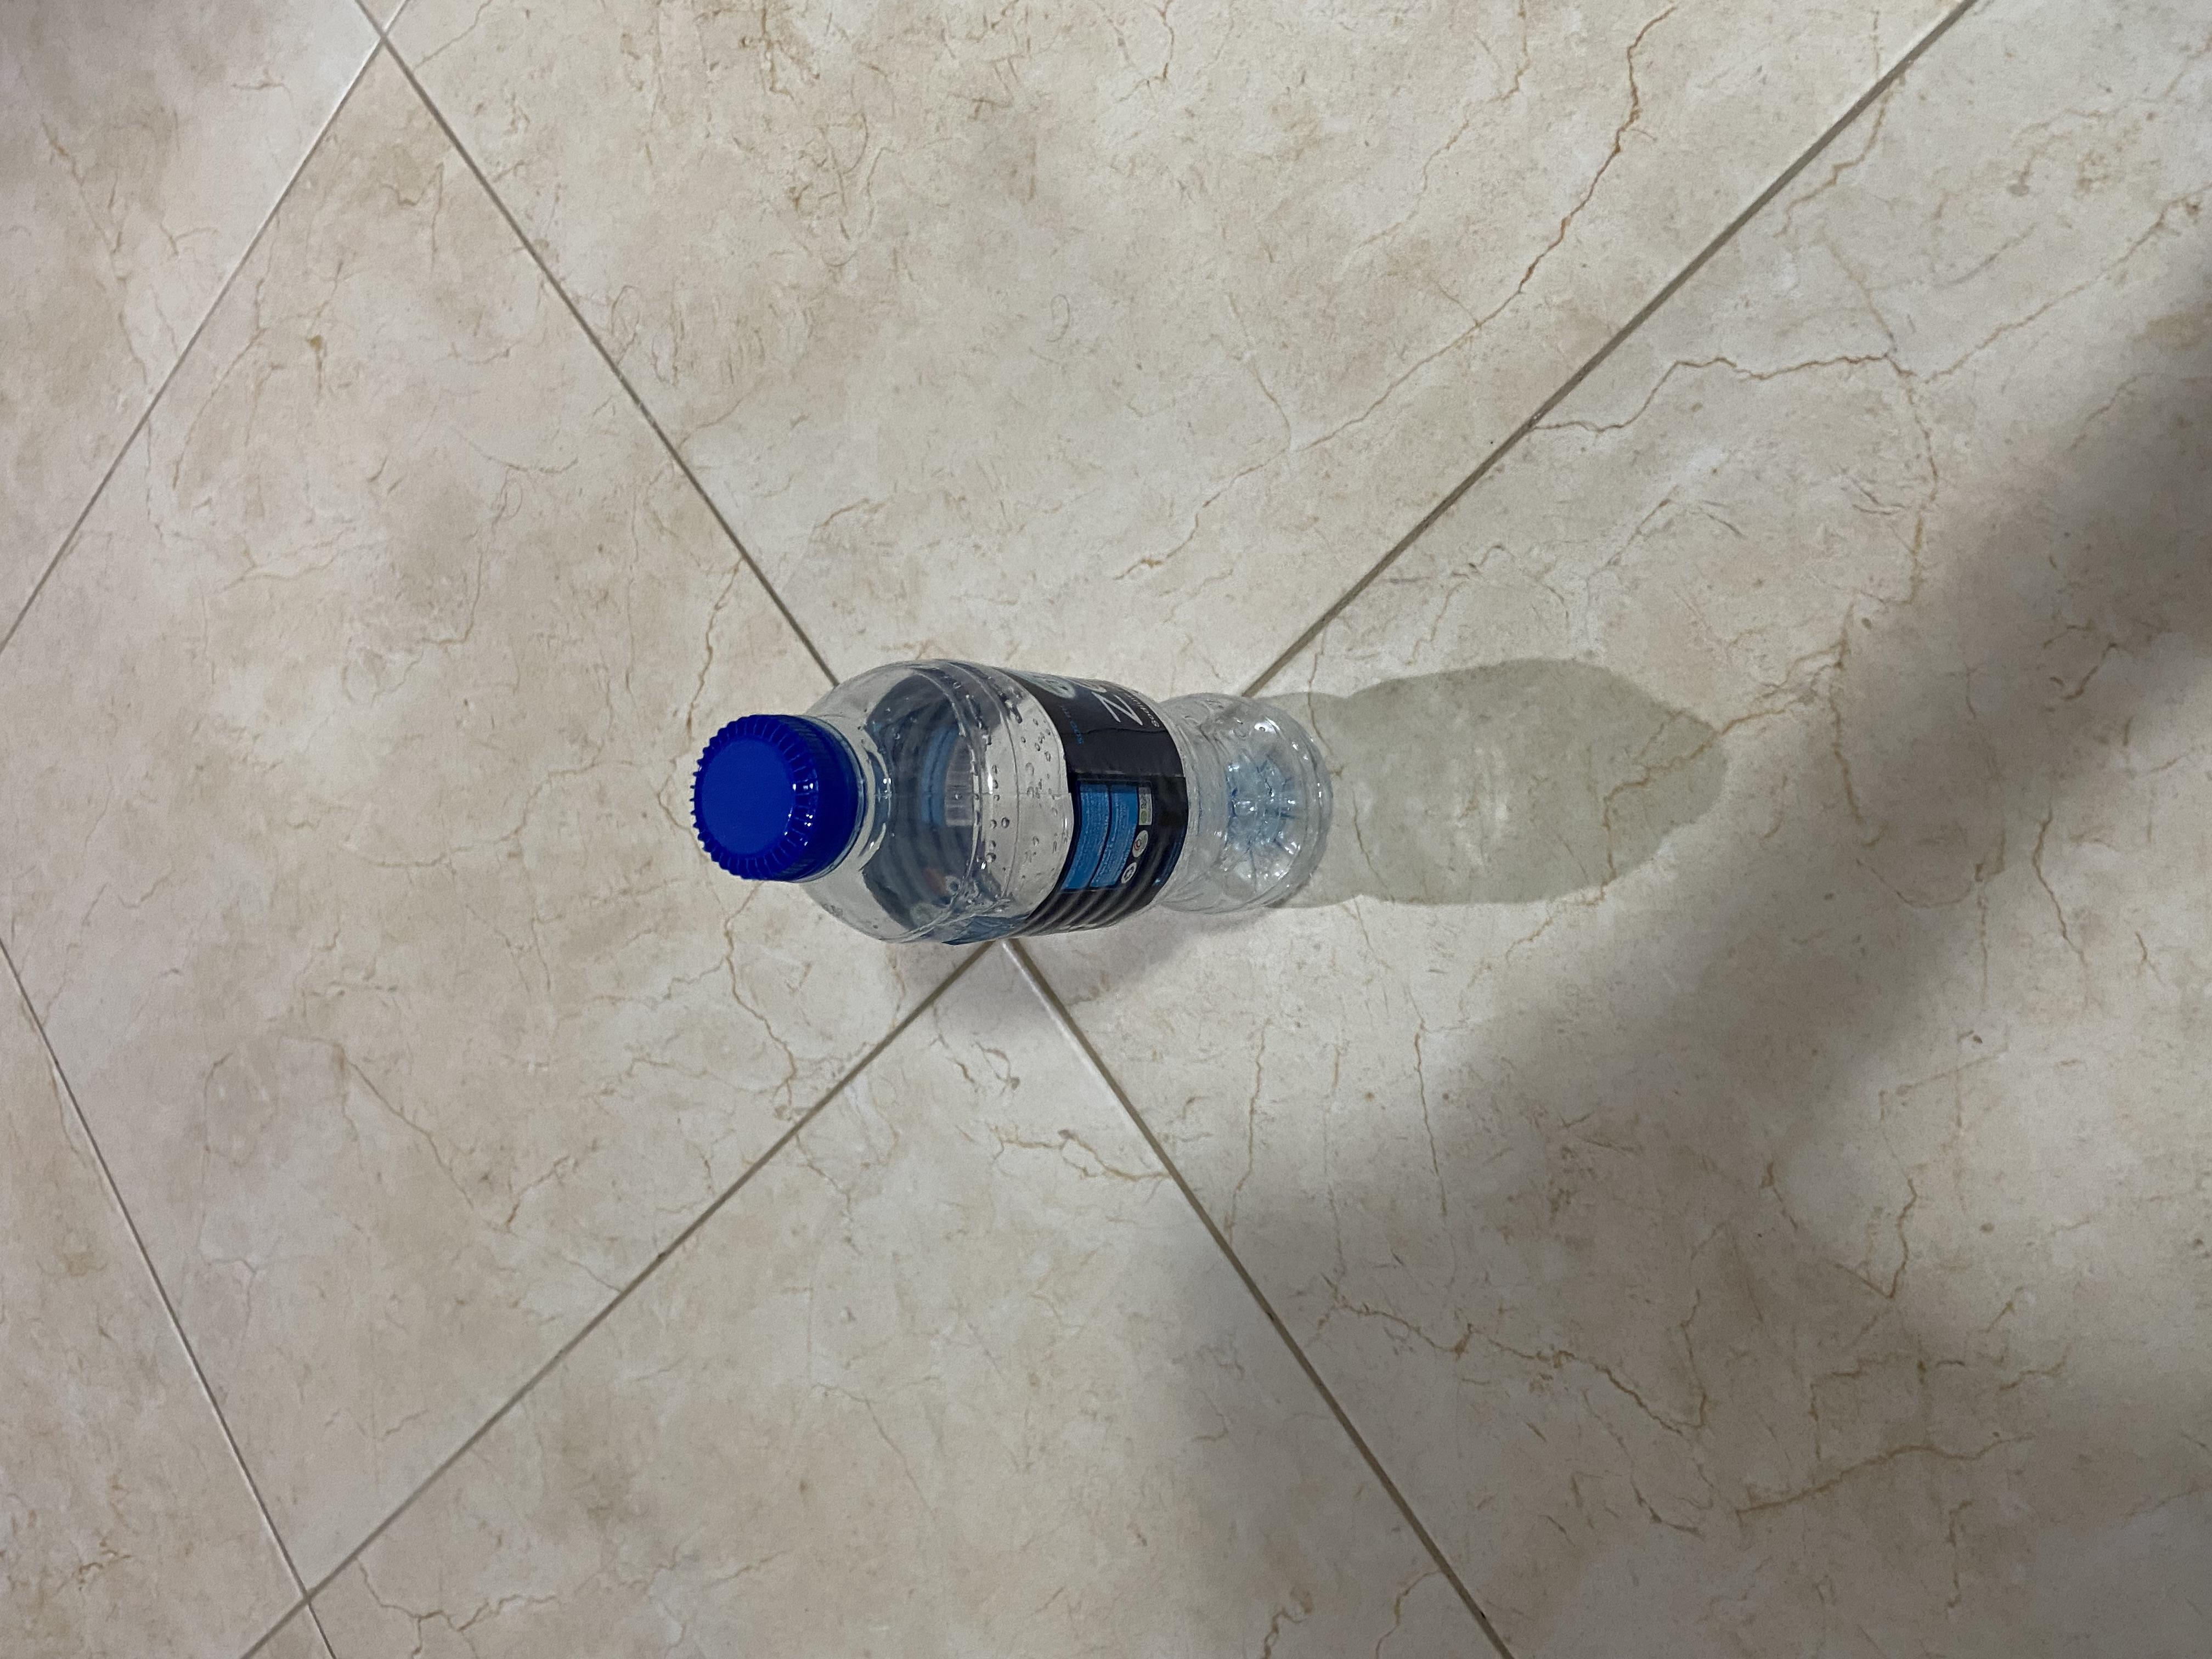bottle: (904, 511, 1327, 1011)
